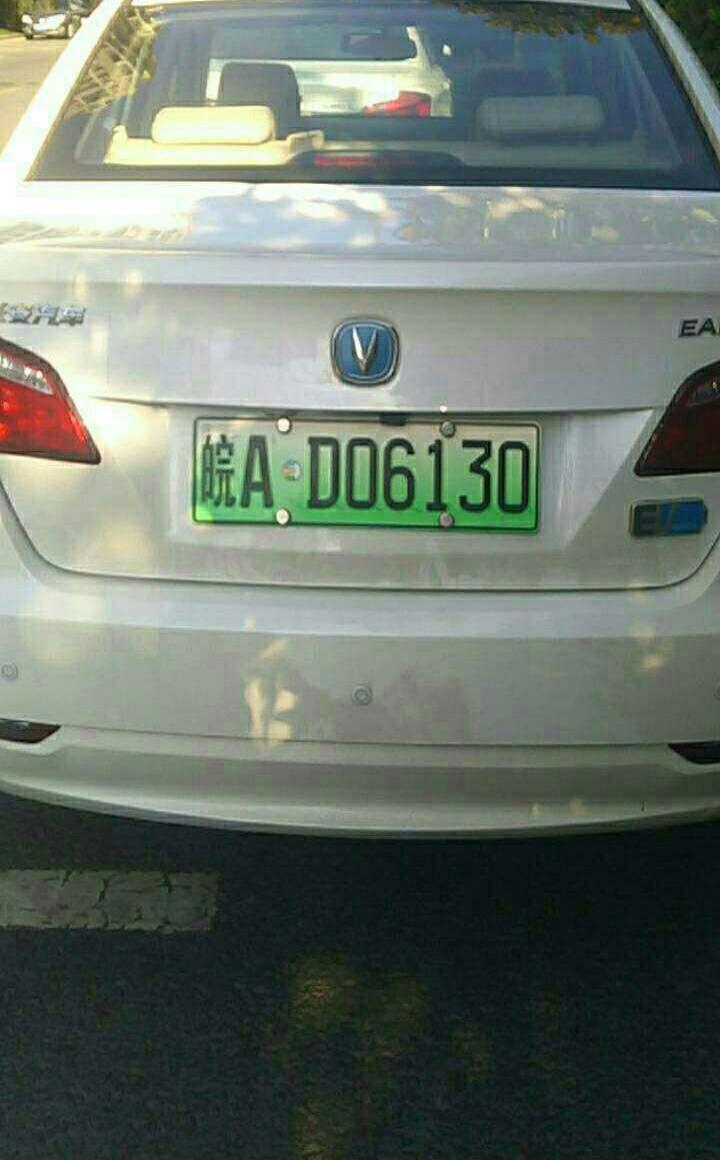car_id: (192, 422, 538, 527)
